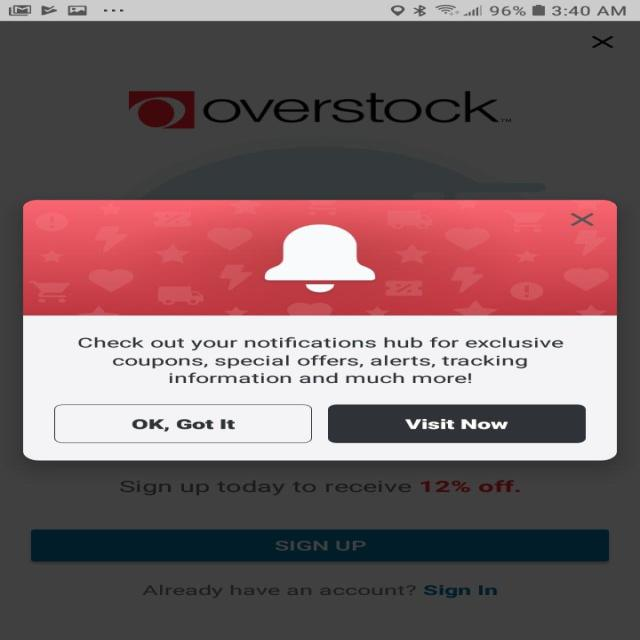Icon: (264, 224, 375, 292), (570, 213, 593, 226)
Modal: (22, 200, 617, 460)
Text: (77, 336, 564, 384)
TextButton: (53, 404, 312, 443), (327, 404, 586, 443)
